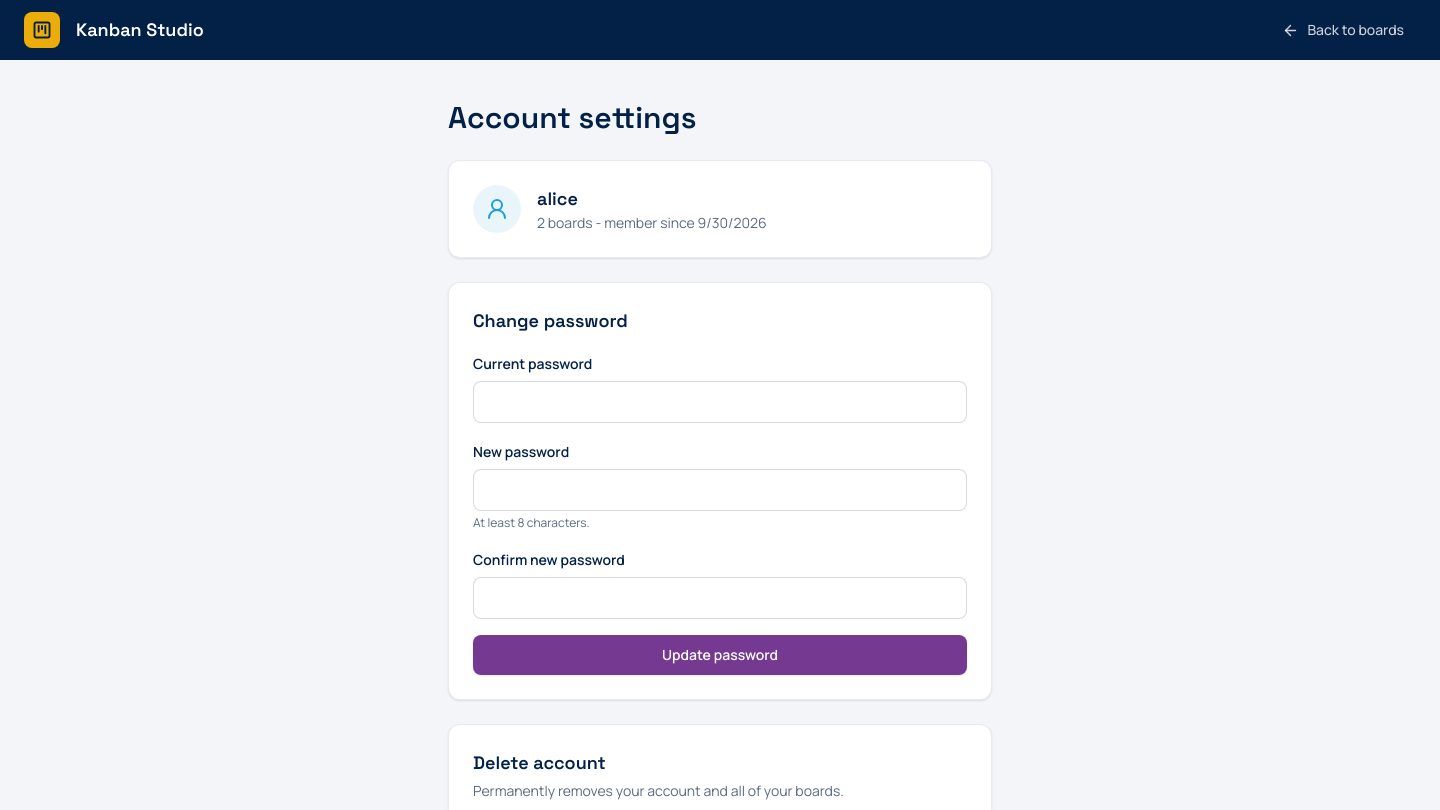
Test: AccountSettings › rejects mismatched new passwords without a request
The width and height of the screenshot is (1440, 810).
Type "old-password" into the password field labelled "Current password" at (720, 402), box [473,381,967,423]
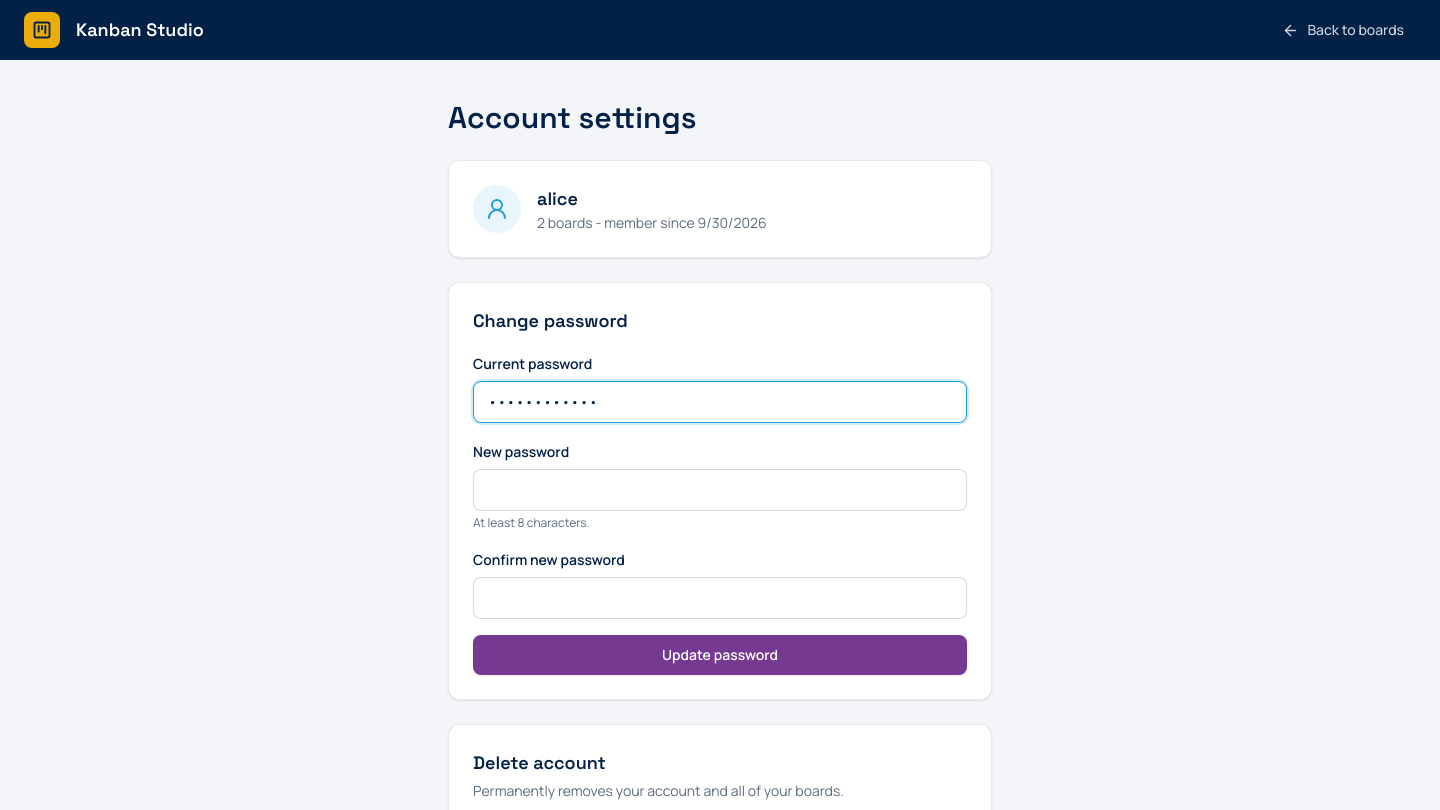
Type "new-password" into the password field labelled "New password" at (720, 490), box [473,469,967,511]
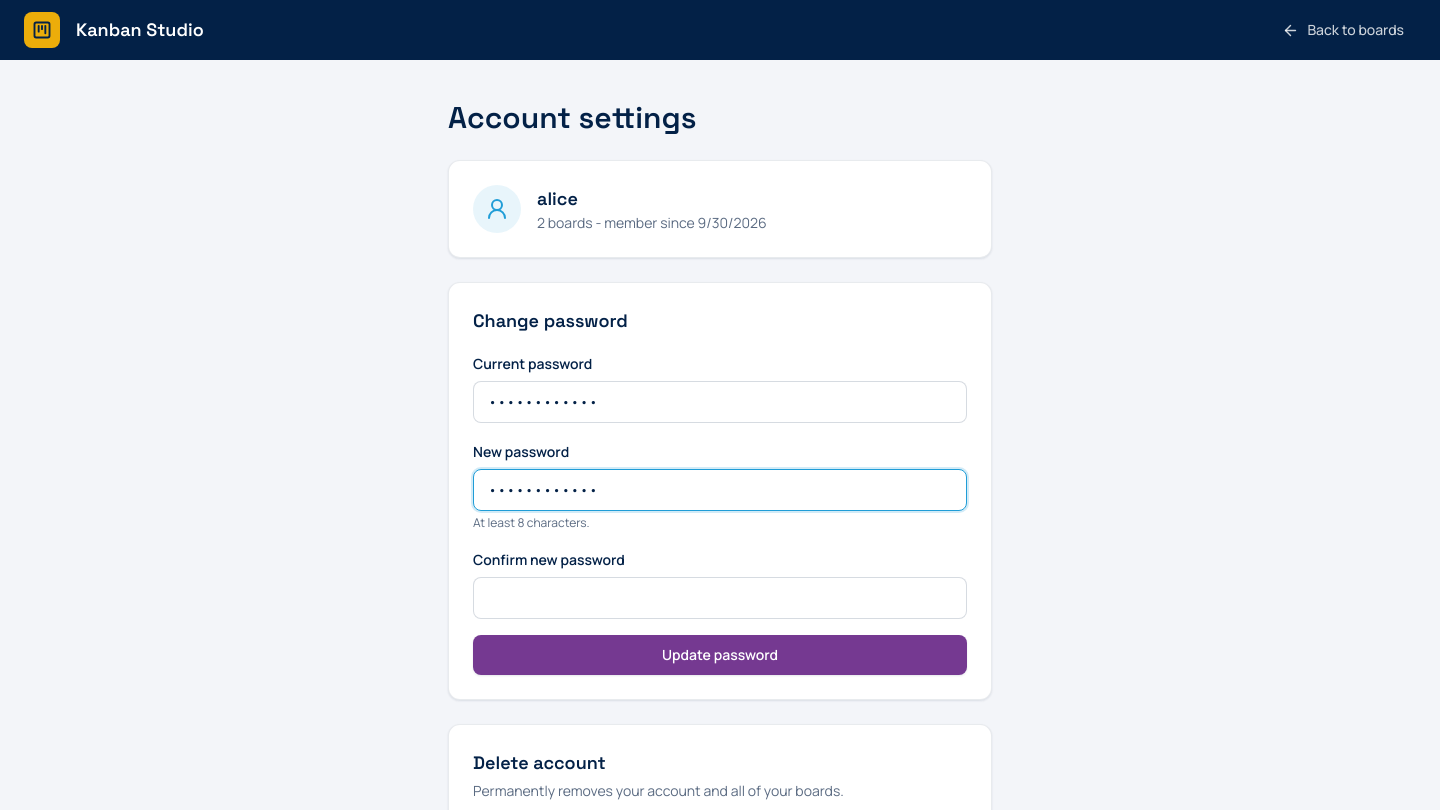
Type "other-password" into the password field labelled "Confirm new password" at (720, 598), box [473,577,967,619]
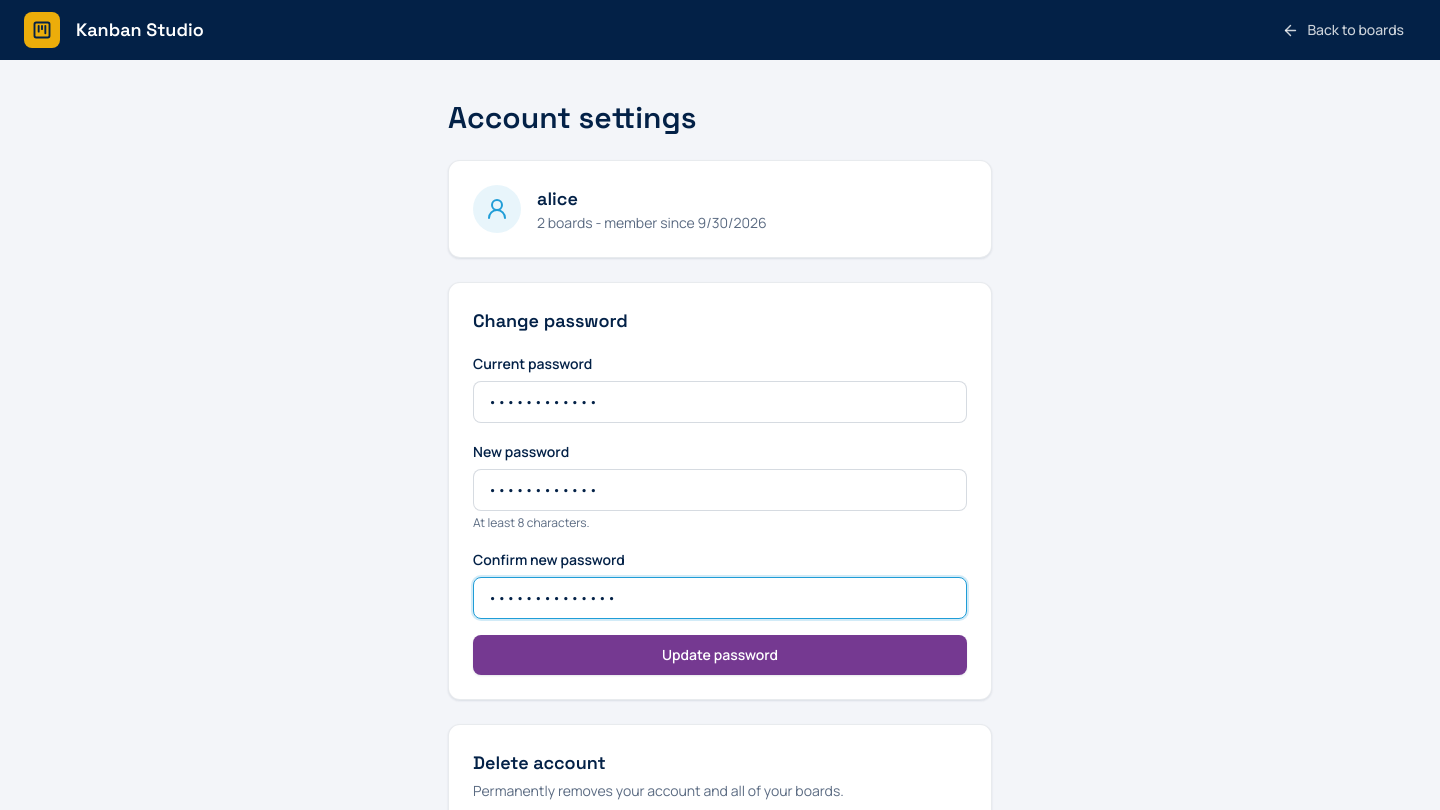
Click the button "Update password" at (720, 655), box [473,635,967,675]
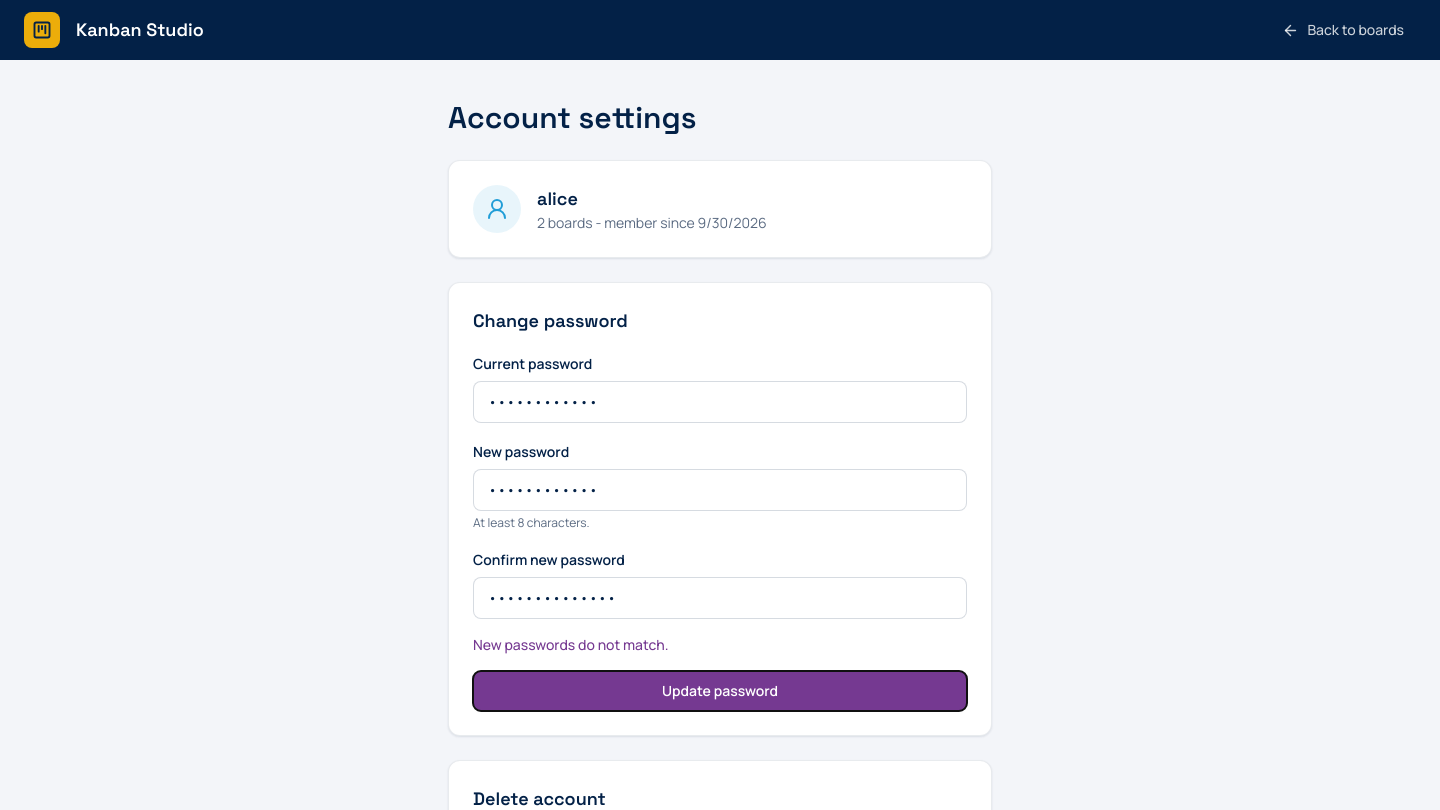
Result: the message reads "New passwords do not match." at [473,635,668,654]
